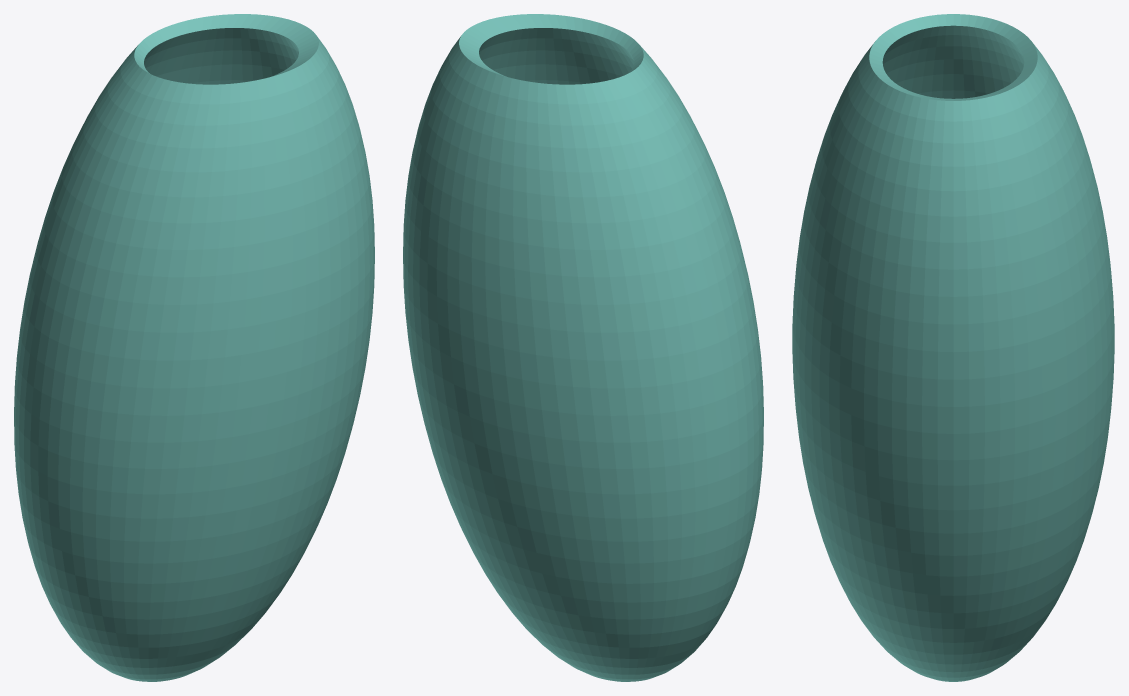
Rendered from cavity-later.glb.
3 views of the same model, side by side, from view 1: azimuth 30°, elevation 25°; view 2: azimuth 150°, elevation 25°; view 3: azimuth 270°, elevation 25° (orthographic). The views are drawn at different scales.
Visible parts, largest first — view 1: cavity-later; view 2: cavity-later; view 3: cavity-later.
Part boxes in pixels (x1,y1,x2,y2): cavity-later: (14,14,374,681); cavity-later: (403,14,763,681); cavity-later: (792,14,1114,681).
Bounding box in the file's own units: 0.068 × 0.1206 × 0.0542.
